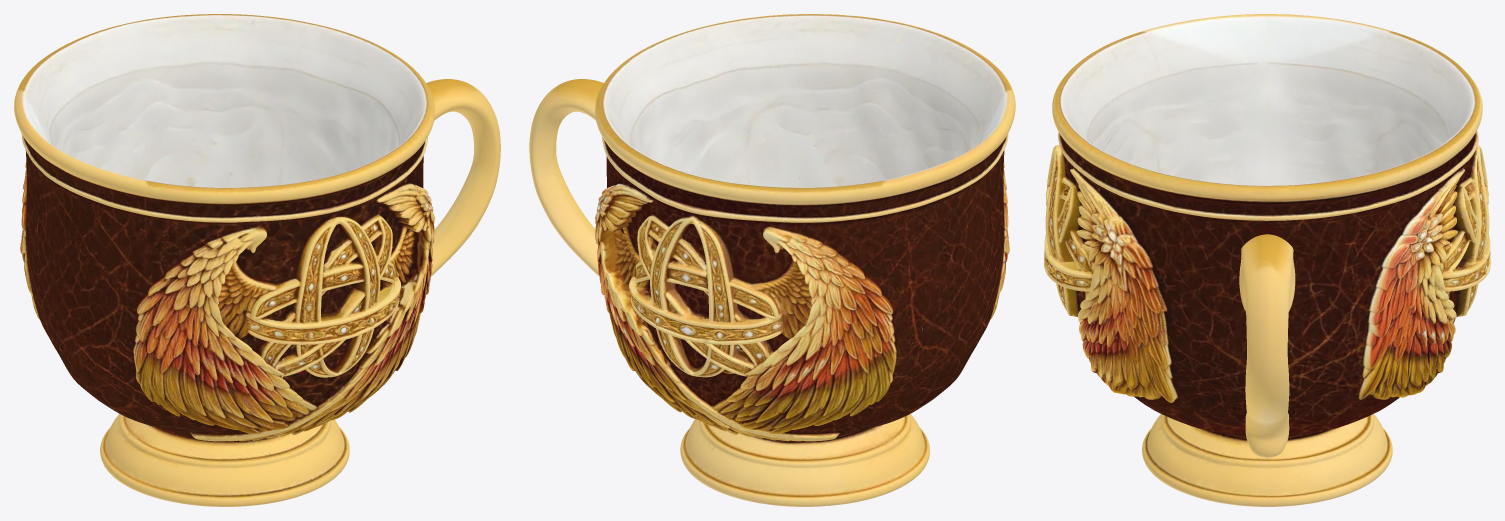
Rendered from Fincan_m.glb.
3 views of the same model, side by side, from view 1: azimuth 30°, elevation 25°; view 2: azimuth 150°, elevation 25°; view 3: azimuth 270°, elevation 25° (orthographic).
Parts seen in each view (by area): view 1: mesh_node; view 2: mesh_node; view 3: mesh_node.
Boxes of the visible parts, x1,y1,x2,y2 form: mesh_node: [14, 14, 500, 506]; mesh_node: [529, 14, 1015, 506]; mesh_node: [1044, 14, 1490, 506].
Size of the model in its own units: 1.9 by 1.42 by 1.61.
Materials: 1 (1 with a texture image).
